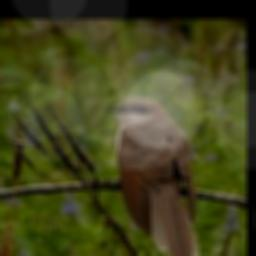Cuckoo: (105, 97, 200, 256)
